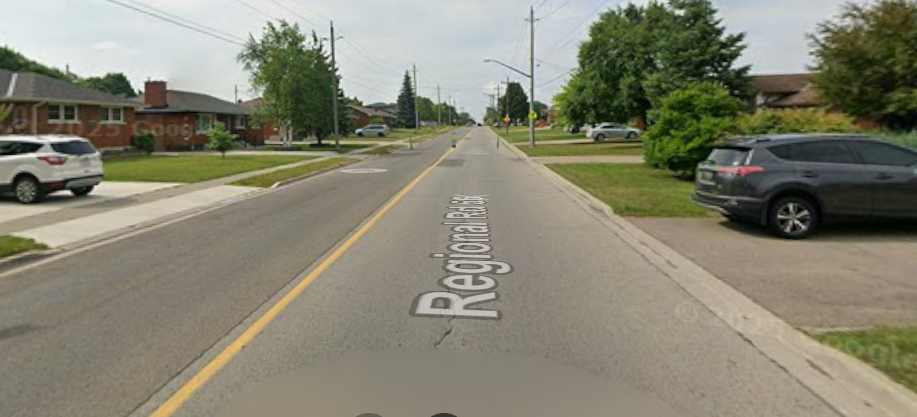construction: (401, 125, 508, 156)
cracks: (417, 321, 469, 352)
